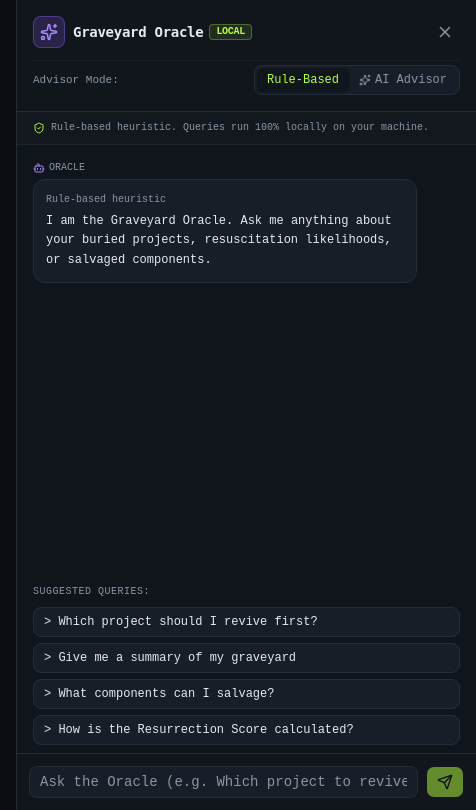
it: OraclePanel Component › sends question via chatWithOracle when in AI mode and displays AI label
The width and height of the screenshot is (476, 810).
Switch to AI Advisor mode
Click the button "AI Advisor": (403, 80) [349,68,457,92]
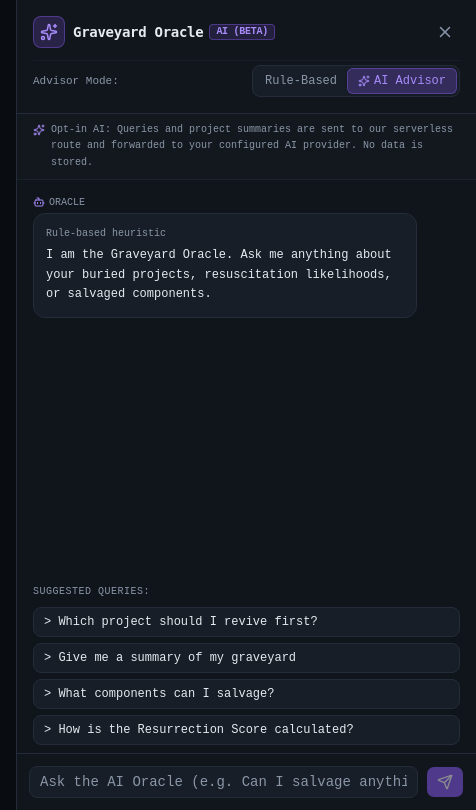
Replace the text in the field with placeholder "Ask the AI Oracle" with "What should I do first?": (224, 782) [29,766,418,798]
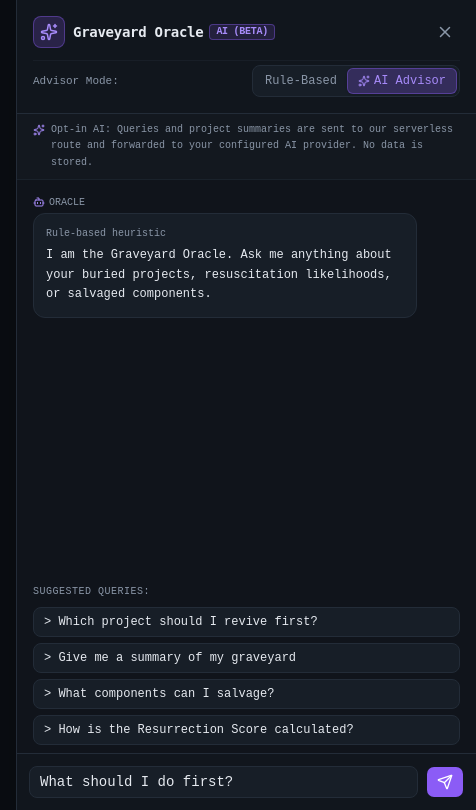
Click the 8th button: (445, 782) [426,766,464,798]
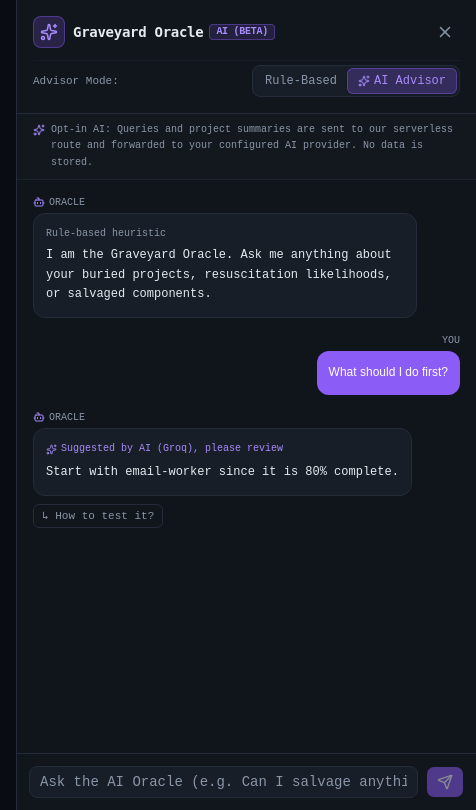
Result: the text "Suggested by AI (Groq), please review" is shown at [46,443,283,455]
